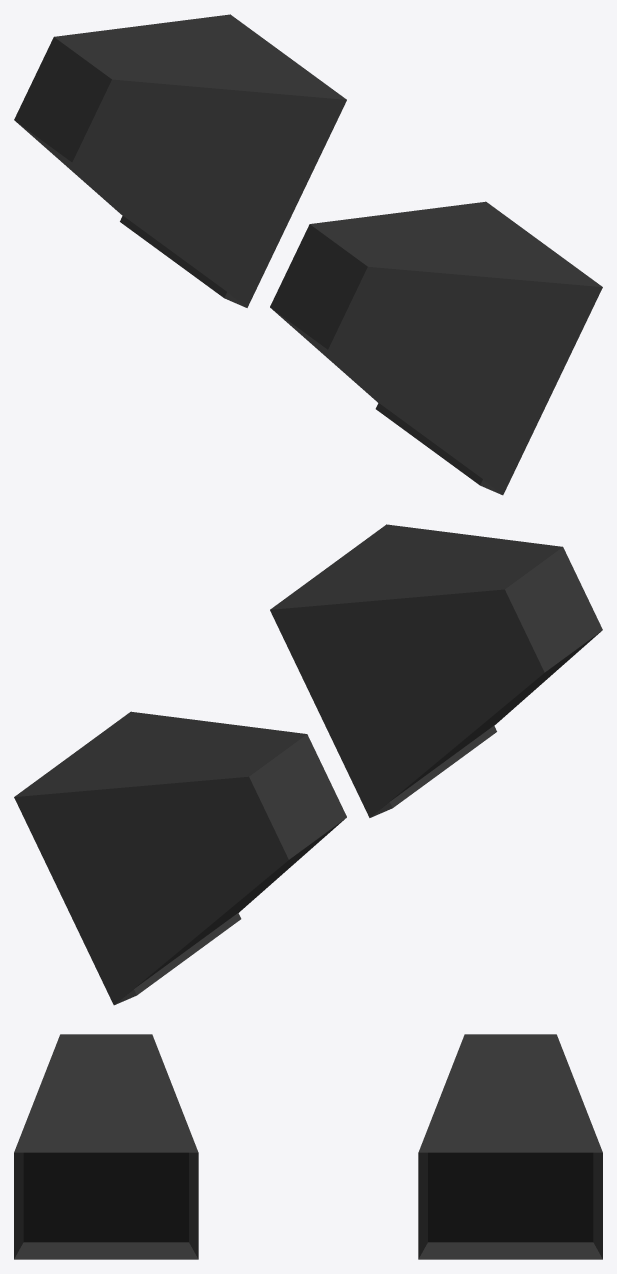
Rendered from Booster.obj.
3 views of the same model, one above another, from view 1: azimuth 30°, elevation 25°; view 2: azimuth 150°, elevation 25°; view 3: azimuth 270°, elevation 25° (orthographic). The views are drawn at different scales.
Parts seen in each view (by area): view 1: Booster; view 2: Booster; view 3: Booster.
Part boxes in pixels (x1,y1,x2,y2): Booster: (14, 14, 602, 495); Booster: (14, 524, 602, 1005); Booster: (14, 1034, 602, 1259).
Bounding box in the file's own units: 0.2699 × 0.2448 × 0.7088.
Materials: 1 (1 with a texture image).
